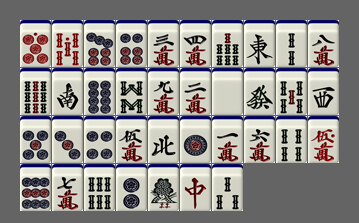0m: (308, 116, 339, 163)
0p: (20, 20, 51, 67)
0s: (52, 20, 83, 67)
1m: (212, 116, 243, 163)
1p: (180, 116, 211, 163)
1s: (148, 164, 179, 211)
1z: (244, 20, 275, 67)
2m: (180, 68, 211, 115)
2p: (116, 164, 147, 211)
2s: (276, 20, 307, 67)
2z: (52, 68, 83, 115)
3m: (148, 20, 179, 67)
3p: (52, 116, 83, 163)
3s: (212, 164, 243, 211)
3z: (308, 68, 339, 115)
4m: (180, 20, 211, 67)
4p: (84, 116, 115, 163)
4s: (276, 116, 307, 163)
4z: (148, 116, 179, 163)
5m: (116, 116, 147, 163)
5p: (20, 116, 51, 163)
5s: (276, 68, 307, 115)
5z: (212, 68, 243, 115)
6m: (244, 116, 275, 163)
6p: (116, 20, 147, 67)
6s: (84, 164, 115, 211)
6z: (244, 68, 275, 115)
7m: (52, 164, 83, 211)
7p: (84, 20, 115, 67)
7s: (212, 20, 243, 67)
7z: (180, 164, 211, 211)
8m: (308, 20, 339, 67)
8p: (84, 68, 115, 115)
8s: (116, 68, 147, 115)
9m: (148, 68, 179, 115)
9p: (20, 164, 51, 211)
9s: (20, 68, 51, 115)
